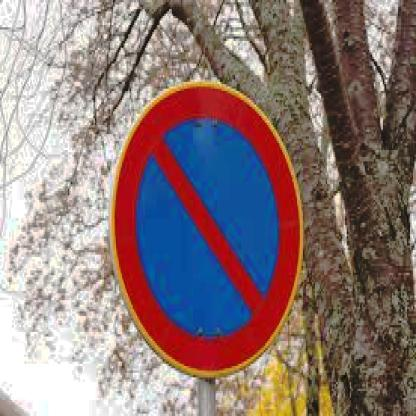No parking: (111, 81, 306, 376)
